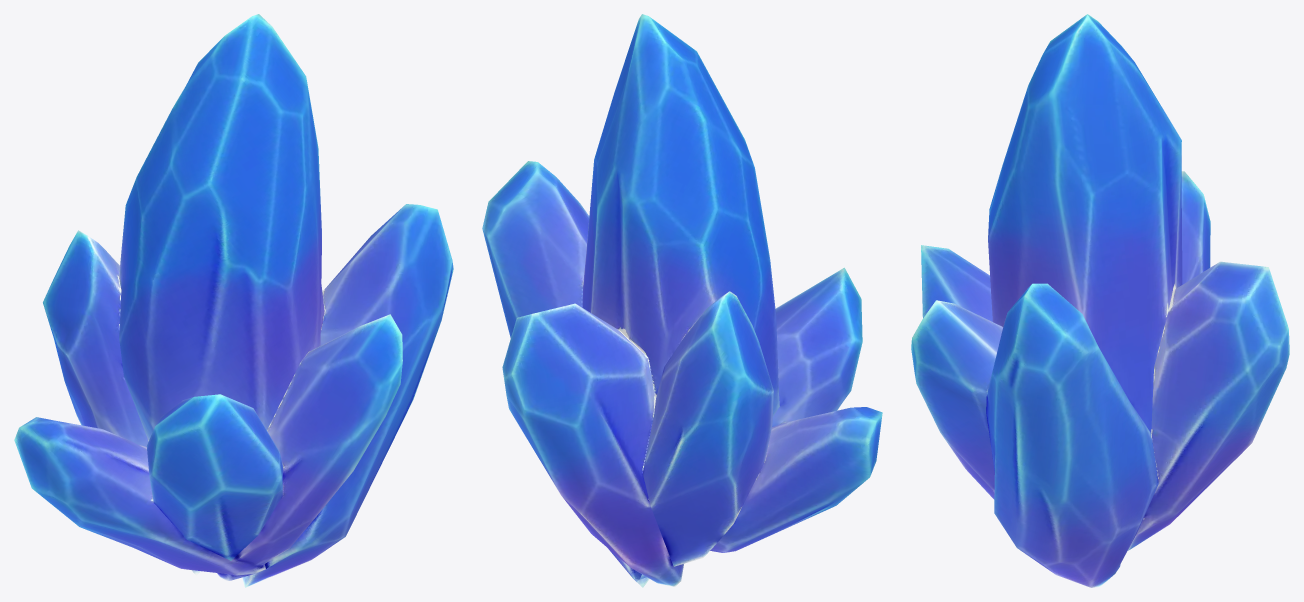
File: metin-transformed.glb
The picture shows the model from 3 angles, left to right: view 1: azimuth 30°, elevation 25°; view 2: azimuth 150°, elevation 25°; view 3: azimuth 270°, elevation 25°; orthographic projection.
Parts seen in each view (by area): view 1: Object_4; view 2: Object_4; view 3: Object_4.
Boxes of the visible parts, <box> form: Object_4: <box>14,14,453,587</box>; Object_4: <box>482,14,882,587</box>; Object_4: <box>911,14,1289,587</box>.
Size of the model in its own units: 1.2 by 1.62 by 0.9695.
1 material, 1 textured.
